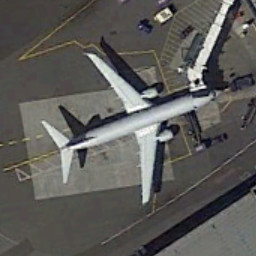Airplane: (40, 41, 228, 215)
